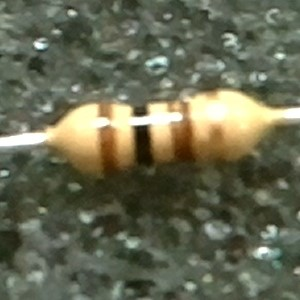black_band: (130, 102, 160, 168)
brown_band: (95, 100, 122, 182), (166, 98, 198, 167)
gold_band: (202, 89, 227, 165)
